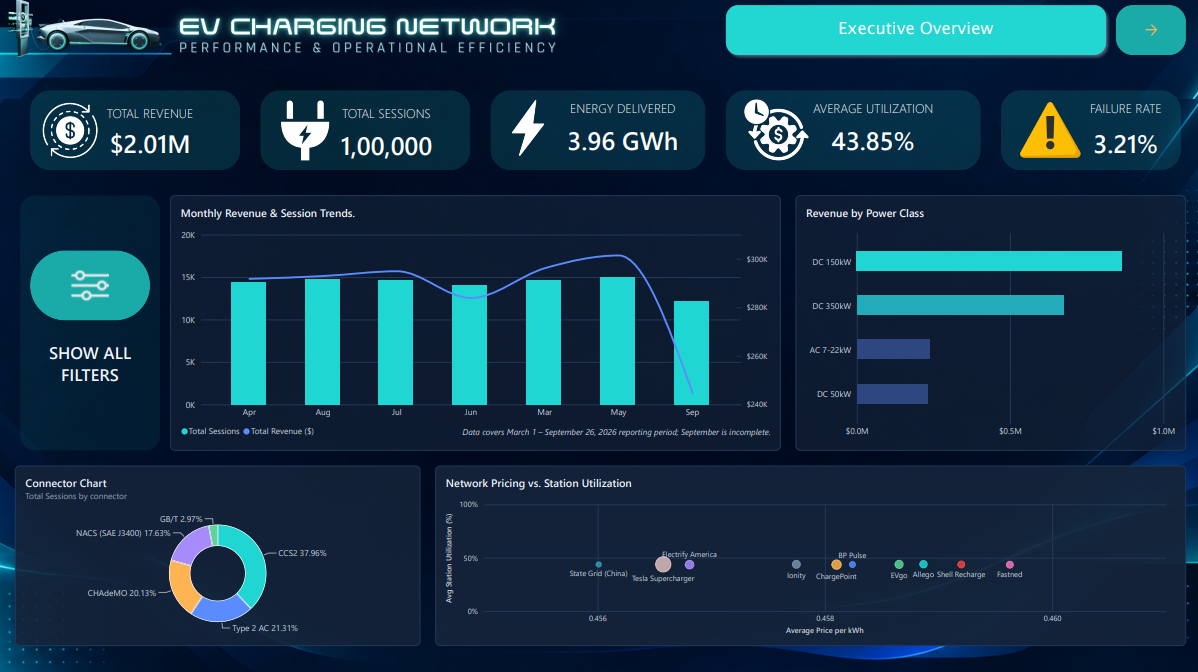

This screenshot's page, from the dashboard's own definition file:
{"tool":"powerbi","page":{"name":"Executive Overview","canvas":[1920,1080],"ordinal":0},"visuals":[{"type":"shape","box":[32,312,224,408],"z":0},{"type":"shape","box":[784,144,344,128],"z":1000},{"type":"shape","box":[416,144,336,128],"z":2000},{"type":"shape","box":[1600,144,288,128],"z":3000},{"type":"shape","box":[1160,144,408,128],"z":4000},{"type":"shape","box":[48,144,336,128],"z":5000},{"type":"card","title":"TOTAL REVENUE","fields":{"Values":["Calculated_table.Total Revenue ($)"]},"box":[136,152,208,112],"z":6000},{"type":"card","title":"TOTAL SESSIONS","fields":{"Values":["Calculated_table.Total Sessions"]},"box":[521.6,152,192,120],"z":7000},{"type":"card","title":"ENERGY DELIVERED","fields":{"Values":["Calculated_table.Total Energy Delivered (MWh)"]},"box":[864,144,264,120],"z":8000},{"type":"card","title":"AVERAGE UTILIZATION","fields":{"Values":["Calculated_table.Avg Station Utilization (%)"]},"box":[1264,144,264,120],"z":9000},{"type":"card","title":"FAILURE RATE","fields":{"Values":["Calculated_table.Failure Rate (%)"]},"box":[1720,144,160,128],"z":10000},{"type":"clusteredBarChart","title":"Revenue by Power Class","fields":{"Category":["power_classes.power_class","power_classes.session_share"],"Y":["Calculated_table.Total Revenue ($)"]},"box":[1272,312,624,408],"z":11000},{"type":"scatterChart","title":"Network Pricing vs. Station Utilization","fields":{"Series":["charging_networks.network"],"Size":["Calculated_table.Total Sessions"],"X":["Calculated_table.Average Price per kWh"],"Y":["Calculated_table.Avg Station Utilization (%)"]},"box":[696,744,1200,288],"z":12000},{"type":"actionButton","box":[1784,8,112,80],"z":13000},{"type":"pageNavigator","box":[1152,0,624,96],"z":14000},{"type":"donutChart","title":"Connector Chart","fields":{"Category":["connector_types.connector"],"Y":["Calculated_table.Total Sessions"]},"box":[24,744,648,288],"z":15000},{"type":"actionButton","title":"Show Slicers","box":[48,400,192,112],"z":19000},{"type":"textbox","title":"SHOW ALL FILTERS","box":[48,544,192,128],"z":20000},{"type":"image","box":[56,160,112,96],"z":21000},{"type":"image","box":[440,160,96,96],"z":22000},{"type":"image","box":[792,160,104,88],"z":23000},{"type":"image","box":[1184,152,112,112],"z":24000},{"type":"image","box":[1632,152,96,112],"z":25000},{"type":"lineClusteredColumnComboChart","title":"Monthly Revenue & Session Trends.","fields":{"Category":["Dim_Date.Month","Dim_Date.Day"],"Y":["Calculated_table.Total Sessions"],"Y2":["Calculated_table.Total Revenue ($)"]},"box":[272,312,976,408],"z":26000},{"type":"textbox","box":[705,681,527,31],"z":27000}]}

Visuals, with their boxes in screenshot pixels (x1, y1, x2, y2), scaled from the page's 1920x1080 canvas onto the 1198x672 screenshot:
shape: 20,194,160,448
shape: 489,90,704,169
shape: 260,90,469,169
shape: 998,90,1178,169
shape: 724,90,978,169
shape: 30,90,240,169
"TOTAL REVENUE" card: 85,95,215,164
"TOTAL SESSIONS" card: 325,95,445,169
"ENERGY DELIVERED" card: 539,90,704,164
"AVERAGE UTILIZATION" card: 789,90,953,164
"FAILURE RATE" card: 1073,90,1173,169
"Revenue by Power Class" clusteredBarChart: 794,194,1183,448
"Network Pricing vs. Station Utilization" scatterChart: 434,463,1183,642
actionButton: 1113,5,1183,55
pageNavigator: 719,0,1108,60
"Connector Chart" donutChart: 15,463,419,642
"Show Slicers" actionButton: 30,249,150,319
"SHOW ALL FILTERS" textbox: 30,338,150,418
image: 35,100,105,159
image: 275,100,334,159
image: 494,100,559,154
image: 739,95,809,164
image: 1018,95,1078,164
"Monthly Revenue & Session Trends." lineClusteredColumnComboChart: 170,194,779,448
textbox: 440,424,769,443
